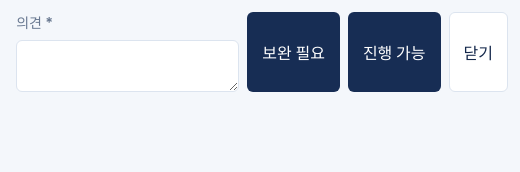
Scenario: ReviewWorkflowActions › requires a legal opinion before a legal reviewer can complete the review
Later steps or results of the test are not shown.
Step 1. Click the button "진행 가능" → (394,52), box [348,12,441,92]
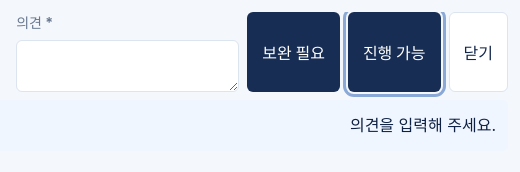
expect the message reads "의견을 입력해 주세요.": met, box [350,115,496,135]
